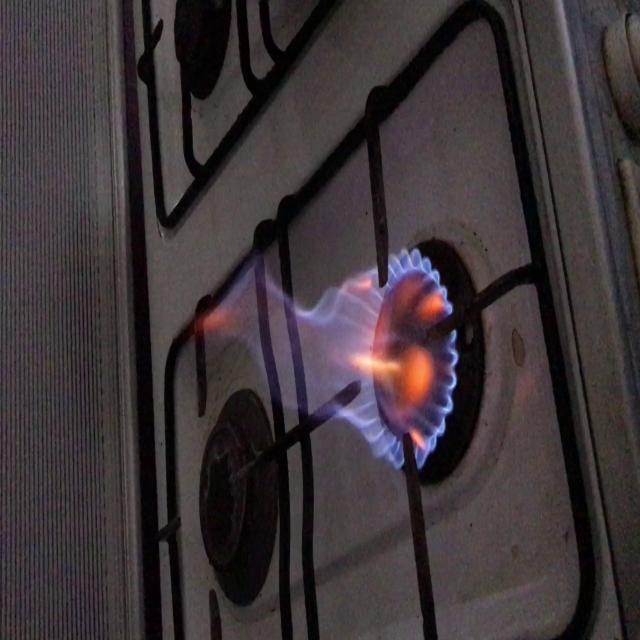Fire: (253, 271, 460, 464)
